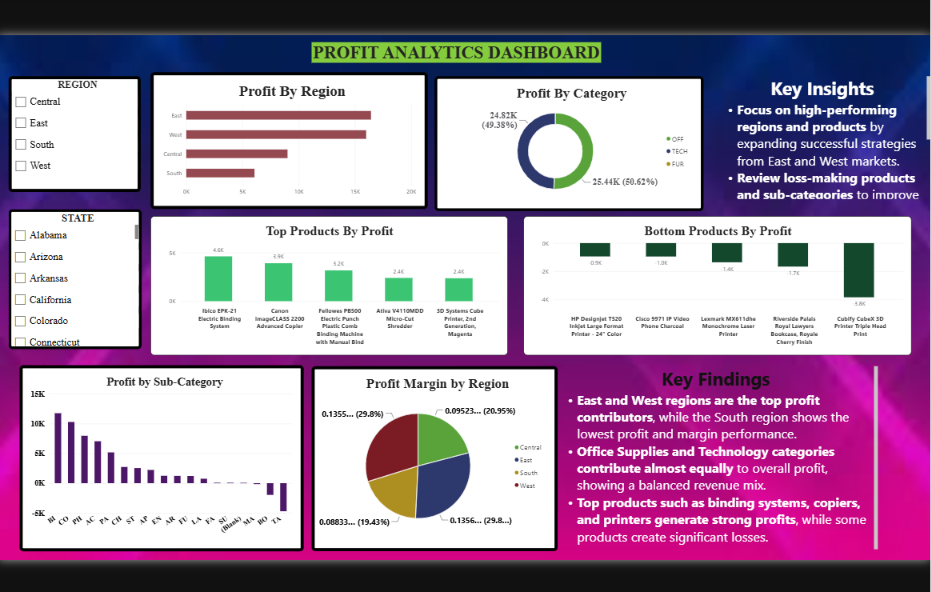

The page's visual inventory and layout, read from the dashboard file:
{"tool":"powerbi","page":{"name":"Profit Analytics","canvas":[1920,1080],"ordinal":2},"visuals":[{"type":"barChart","title":"Profit By Region","fields":{"Y":["Sum(Data.Profit)"],"Category":["Data.Region"]},"box":[314.9,76.2,570.2,282],"z":0},{"type":"donutChart","title":" Profit By Category","fields":{"Category":["Data.category code"],"Y":["Sum(Data.Profit)"]},"box":[899.5,84.4,553.7,277.9],"z":1000},{"type":"columnChart","title":" Profit by Sub-Category","fields":{"Y":["Sum(Data.Profit)"],"Category":["Product_details.sub category code"]},"box":[45.3,679.2,584.6,382.8],"z":2000},{"type":"pieChart","fields":{"Y":["Data.Profit Margin"],"Series":["Data.Region"]},"box":[646.3,681.3,506.3,380.8],"z":3000},{"type":"textbox","title":"PROFIT ANALYTICS DASHBOARD","box":[646,14,596,42],"z":4000},{"type":"slicer","title":"REGION","fields":{"Values":["Data.Region"]},"box":[22.6,84.4,271.7,238.8],"z":5000},{"type":"slicer","title":"STATE","fields":{"Values":["Data.State"]},"box":[22.6,358.1,273.8,288.2],"z":6000},{"type":"clusteredColumnChart","title":"Top Products By Profit","fields":{"Y":["Data.Product Profit"],"Category":["Product_details.Product Name"]},"box":[314.9,372.6,734.8,286.1],"z":7000},{"type":"clusteredColumnChart","title":" Bottom Products By Profit","fields":{"Category":["Product_details.Product Name"],"Y":["Data.Product Profit"]},"box":[1082.7,372.6,798.6,286.1],"z":8000},{"type":"textbox","box":[1152,681,659,381],"z":9000},{"type":"textbox","box":[1482,84.4,438.4,253.2],"z":10000}]}

Visuals, with their boxes in screenshot pixels (x1, y1, x2, y2):
"Profit By Region" barChart: crop(151, 75, 423, 210)
" Profit By Category" donutChart: crop(430, 79, 695, 212)
" Profit by Sub-Category" columnChart: crop(22, 364, 301, 547)
pieChart - Data.Profit Margin x Data.Region: crop(309, 365, 551, 547)
"PROFIT ANALYTICS DASHBOARD" textbox: crop(309, 45, 594, 66)
"REGION" slicer: crop(11, 79, 141, 193)
"STATE" slicer: crop(11, 210, 142, 348)
"Top Products By Profit" clusteredColumnChart: crop(151, 217, 502, 354)
" Bottom Products By Profit" clusteredColumnChart: crop(518, 217, 900, 354)
textbox: crop(551, 364, 866, 547)
textbox: crop(709, 79, 918, 200)
